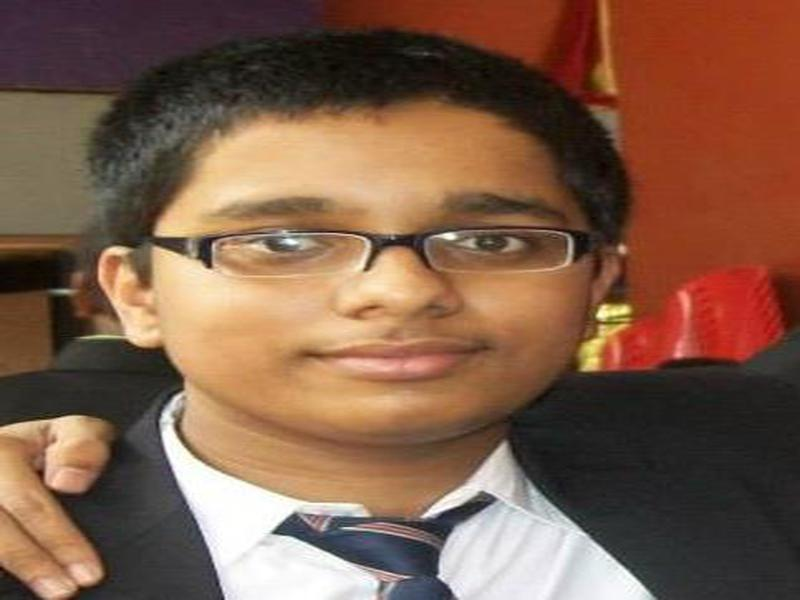without_mask: (140, 108, 598, 440)
